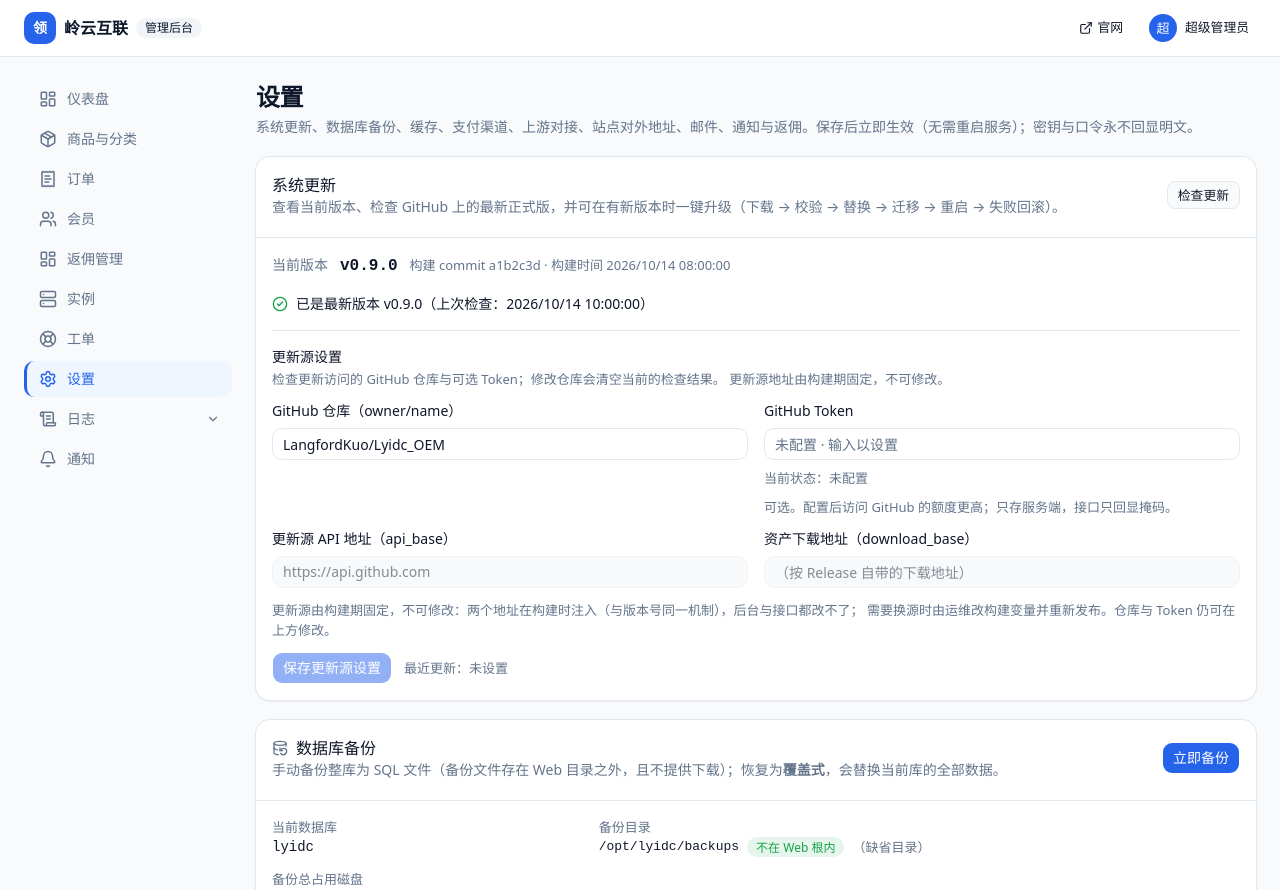
Test case: 管理后台 · 数据库备份（R14，契约 21） › 备份失败：给出可读原因（目录不可用等），不谎报成功
Expected: the heading "设置" is shown, [256, 80, 303, 113]
Click the button with test id "db-backup-create". click: (1201, 758)
box: [1162, 742, 1240, 774]
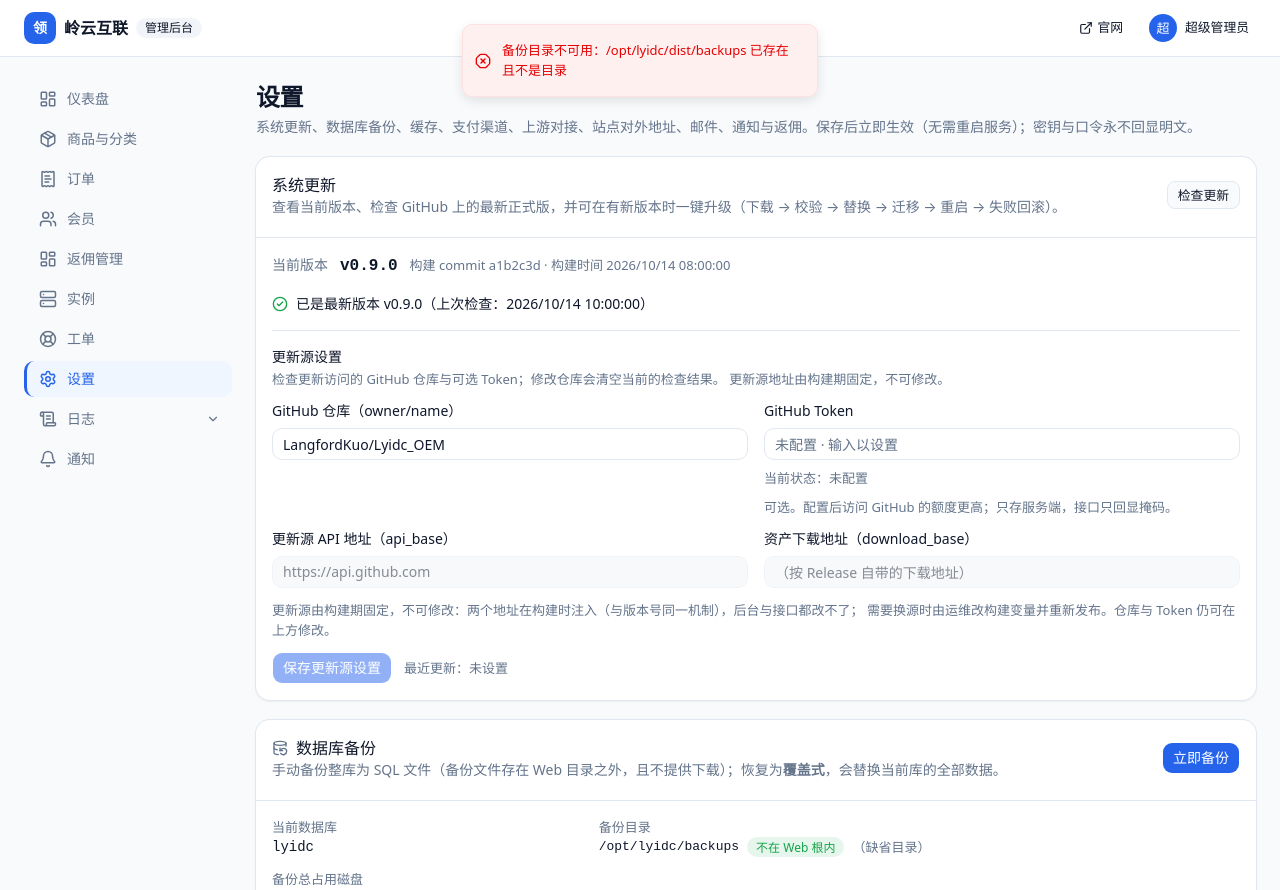
Expected: the text "备份目录不可用：/opt/lyidc/dist/backups 已存在且不是目录" is shown, [502, 41, 801, 80]
